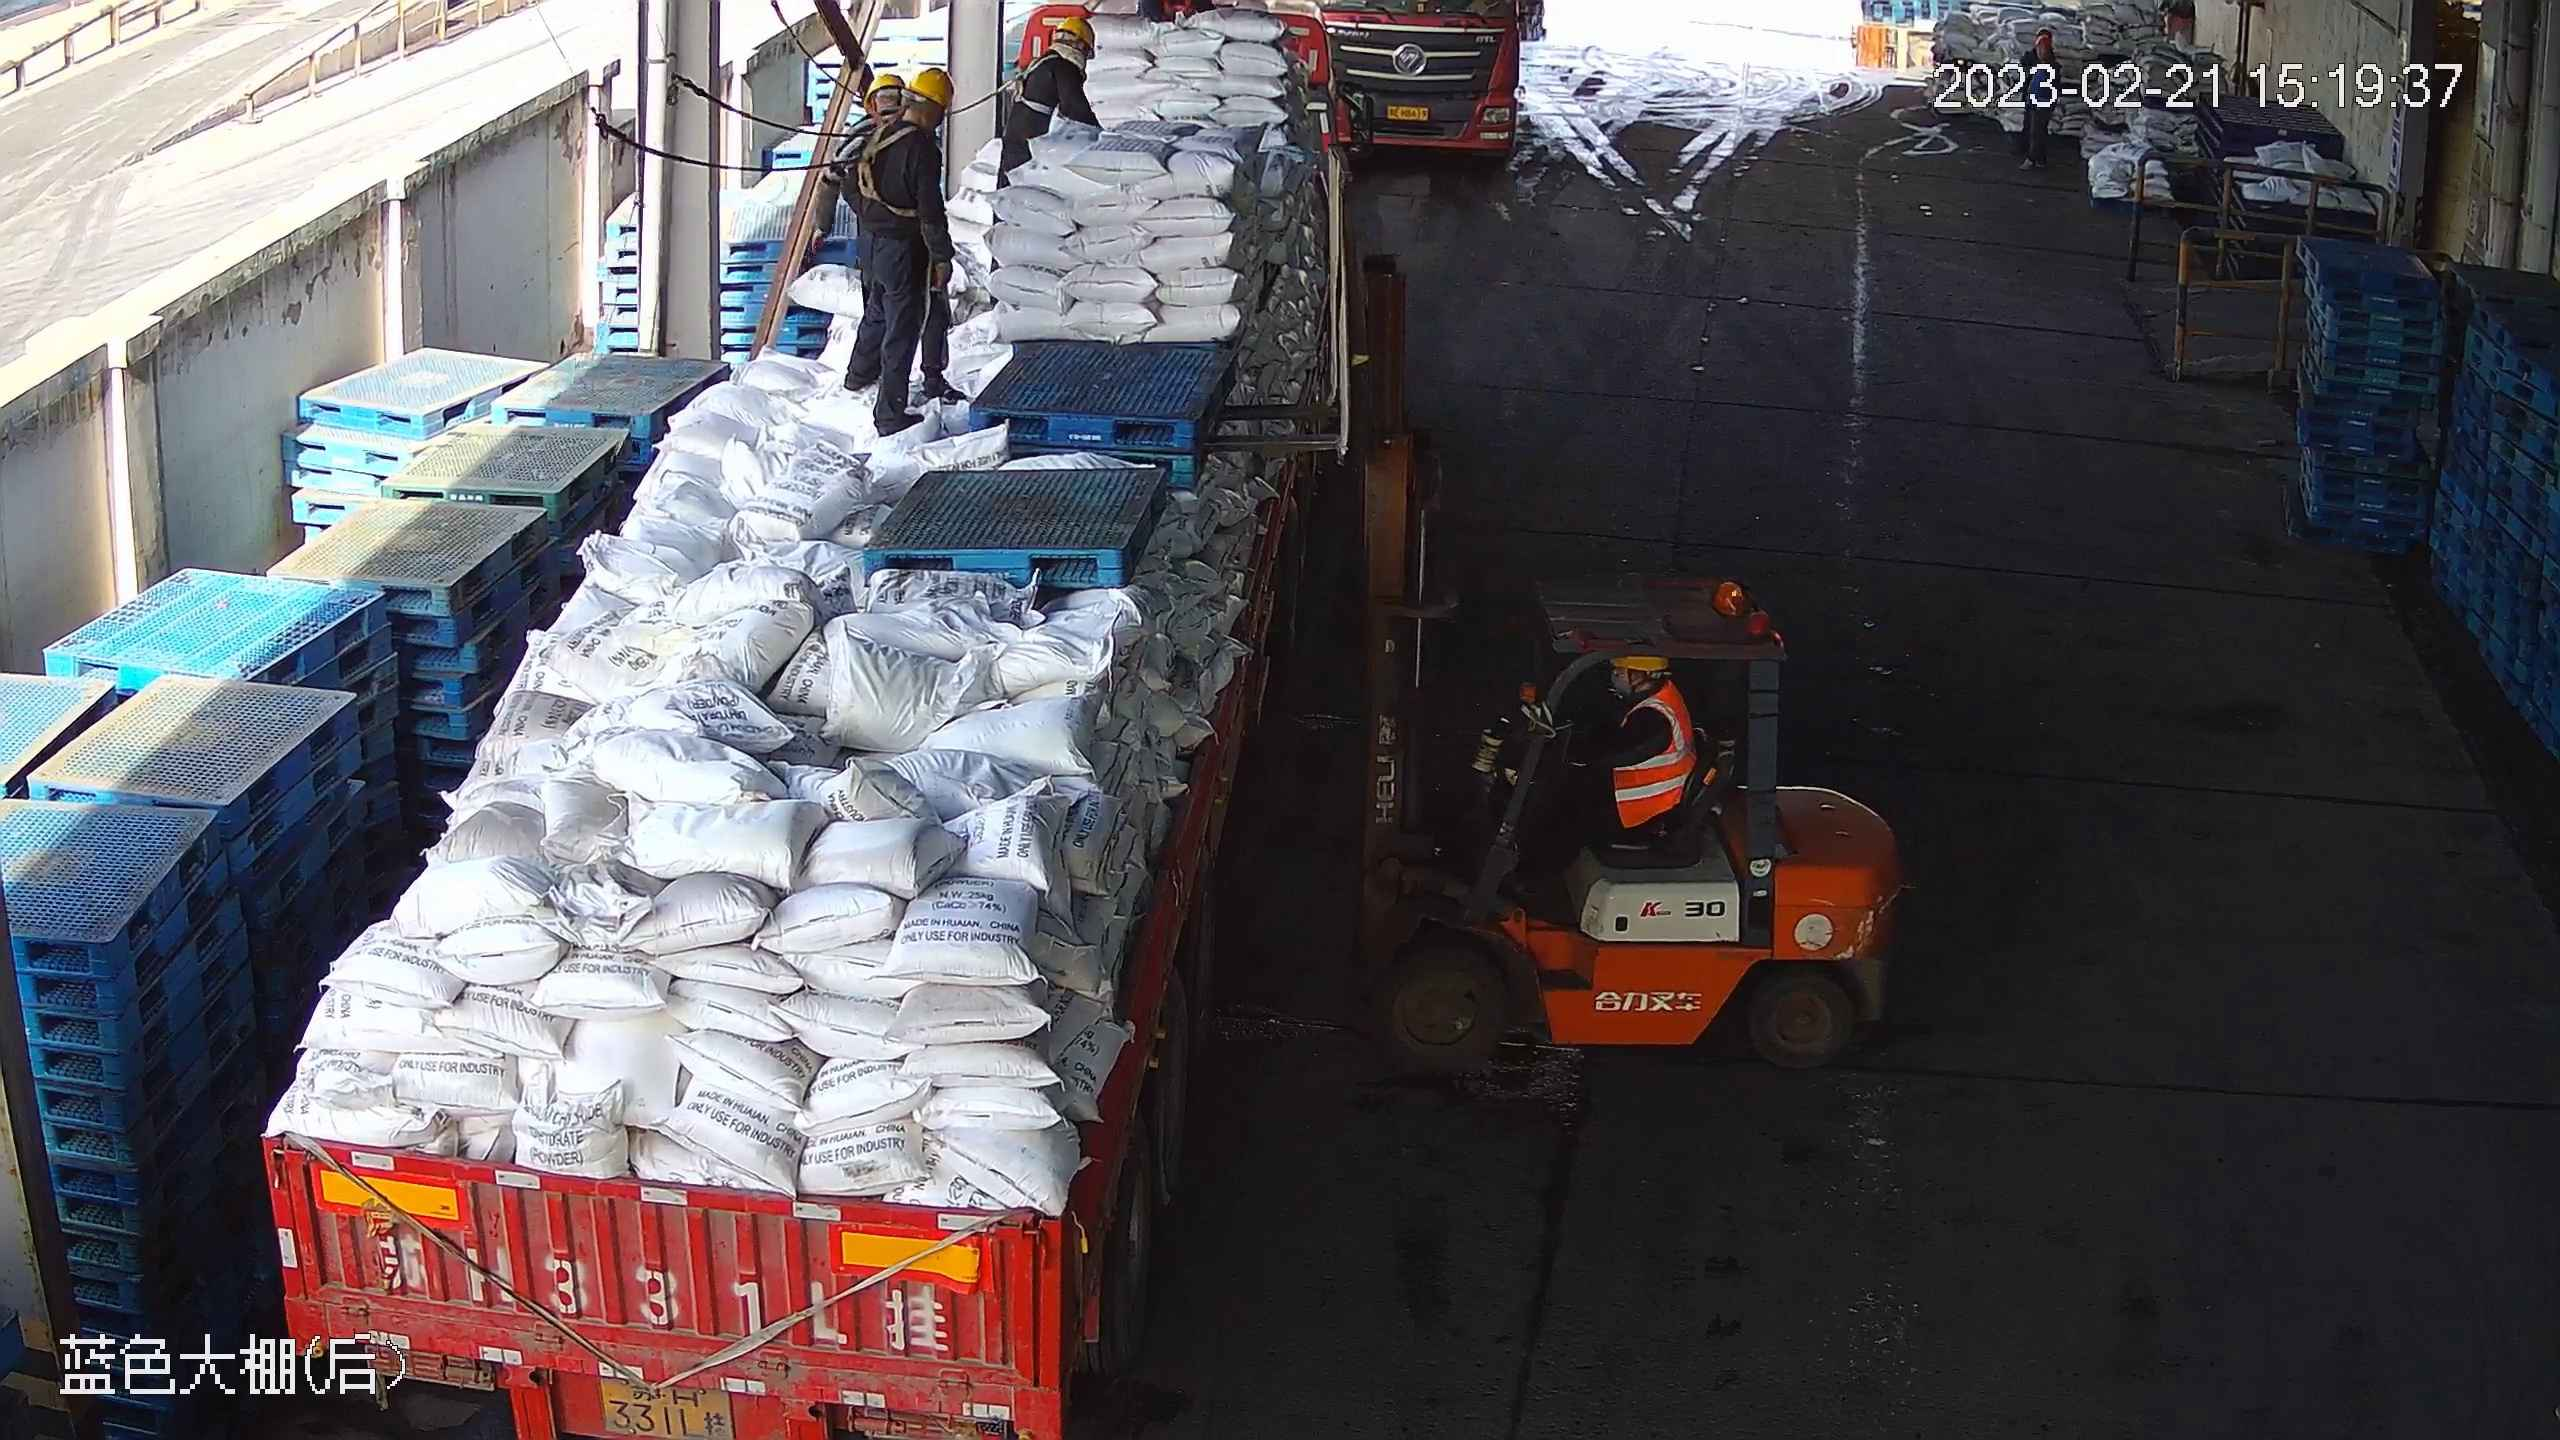belt: (854, 130, 915, 219), (1007, 54, 1078, 114)
head: (1599, 648, 1684, 753), (869, 79, 953, 161), (1033, 10, 1101, 76)
helmet: (914, 67, 959, 106), (1058, 8, 1095, 53), (864, 65, 906, 101)
people: (1529, 651, 1709, 947), (857, 71, 953, 440)
truck: (255, 6, 1361, 1440), (1335, 6, 1557, 179)
